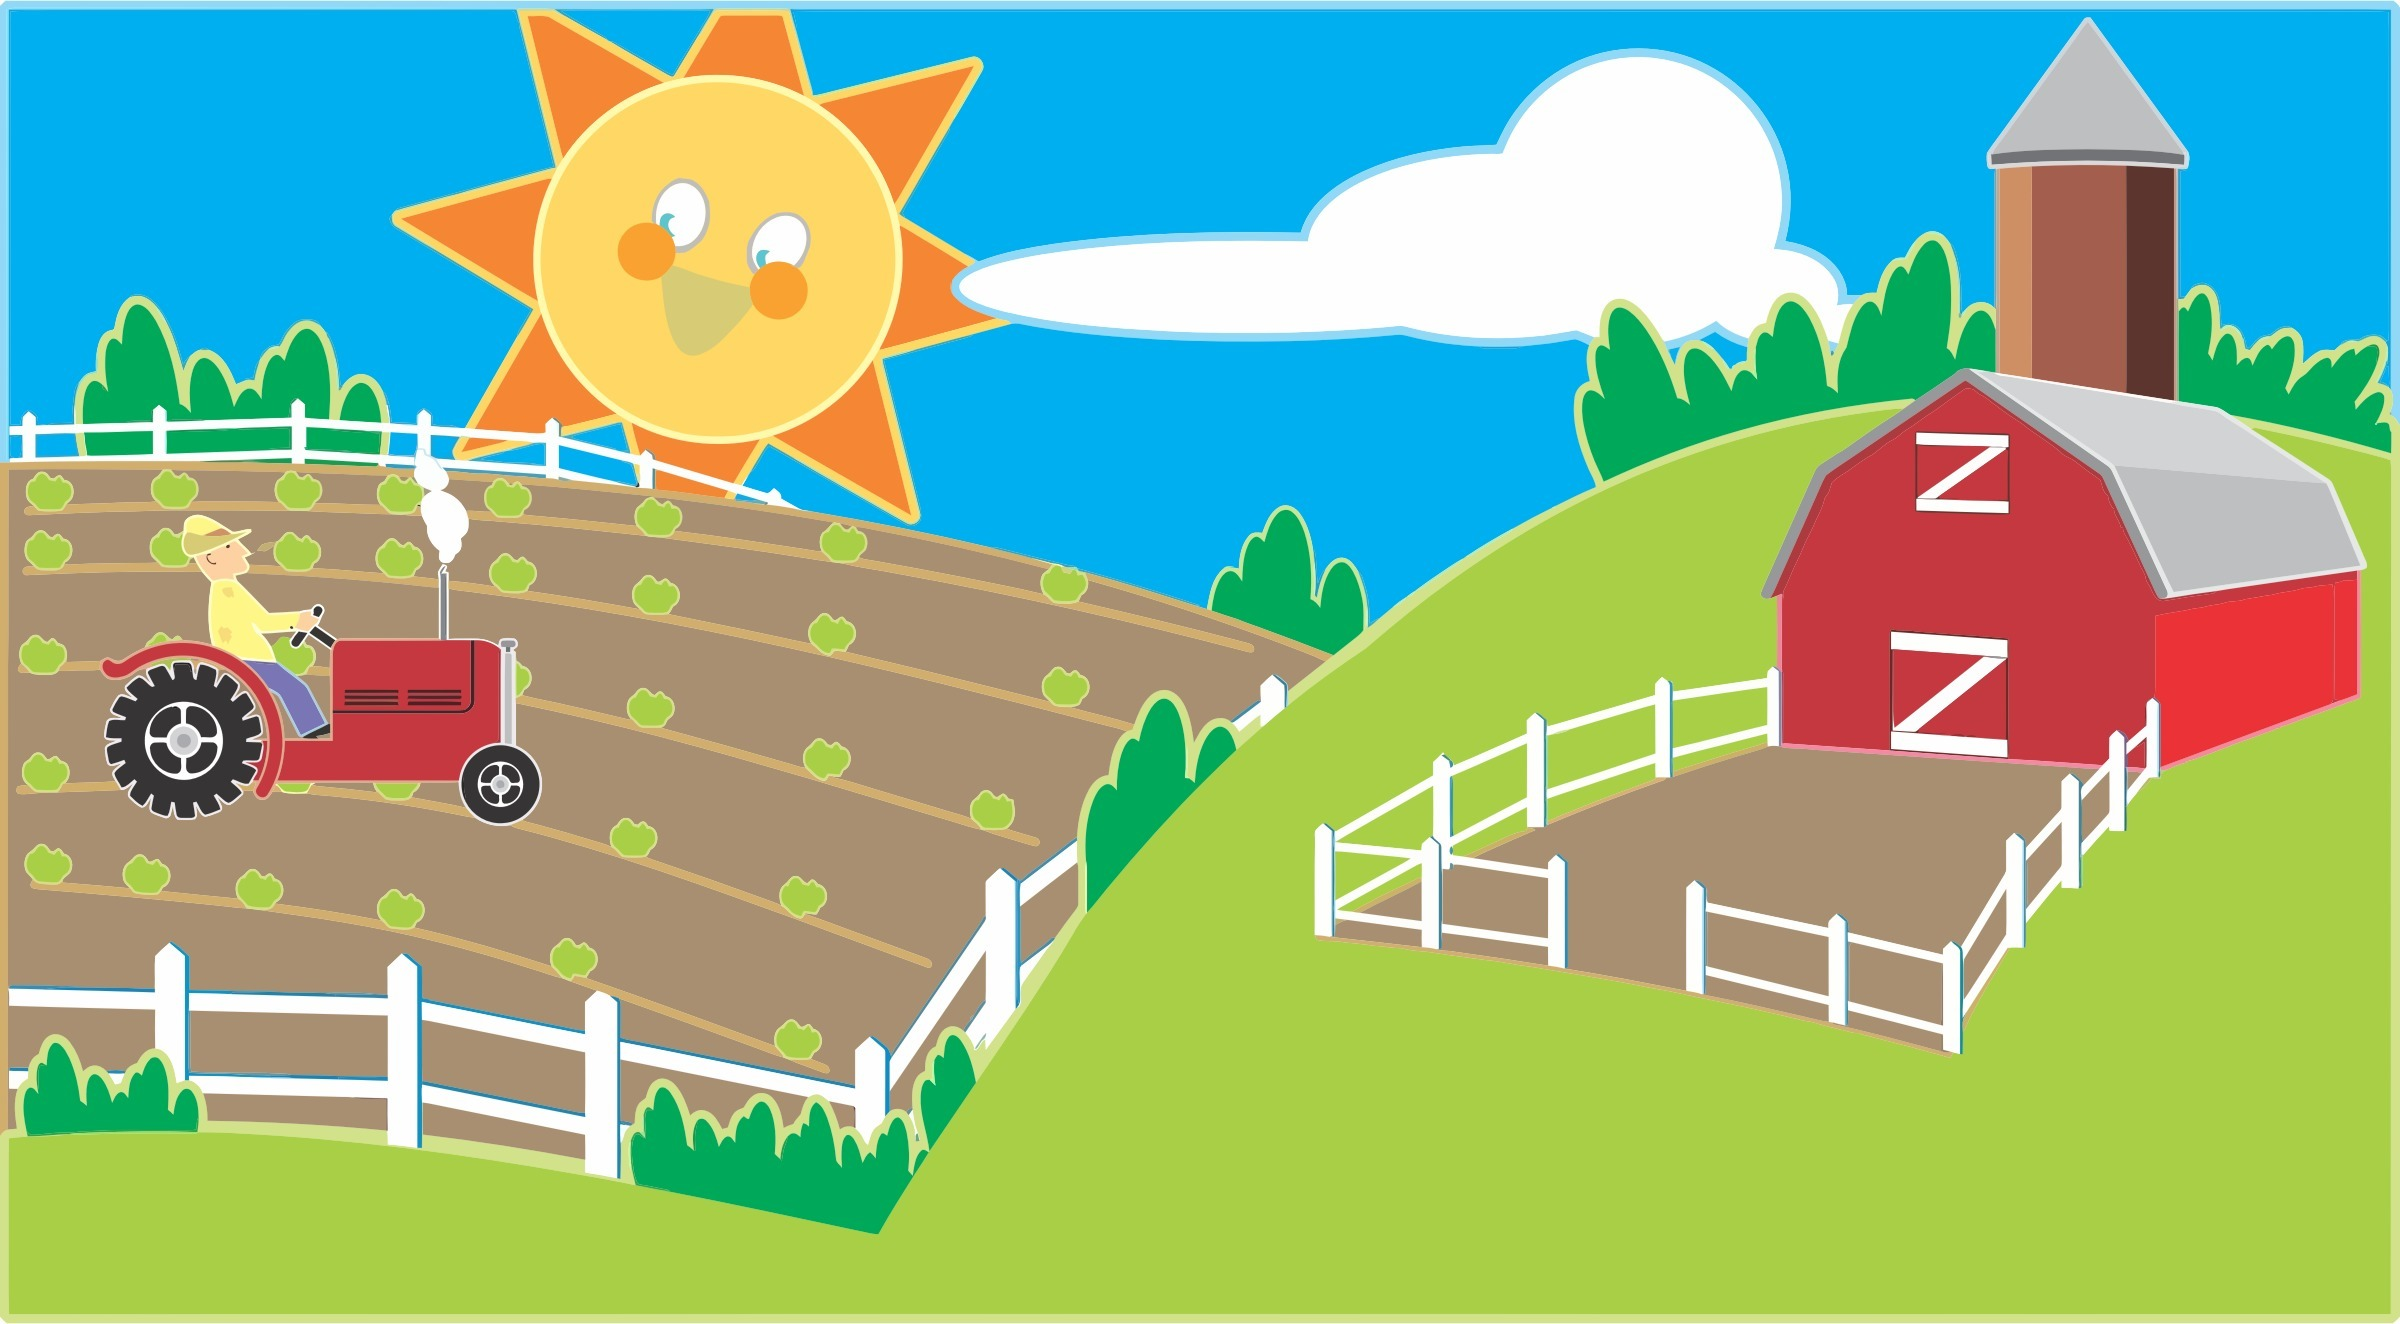car: (85, 597, 557, 841)
person: (150, 487, 367, 764)
